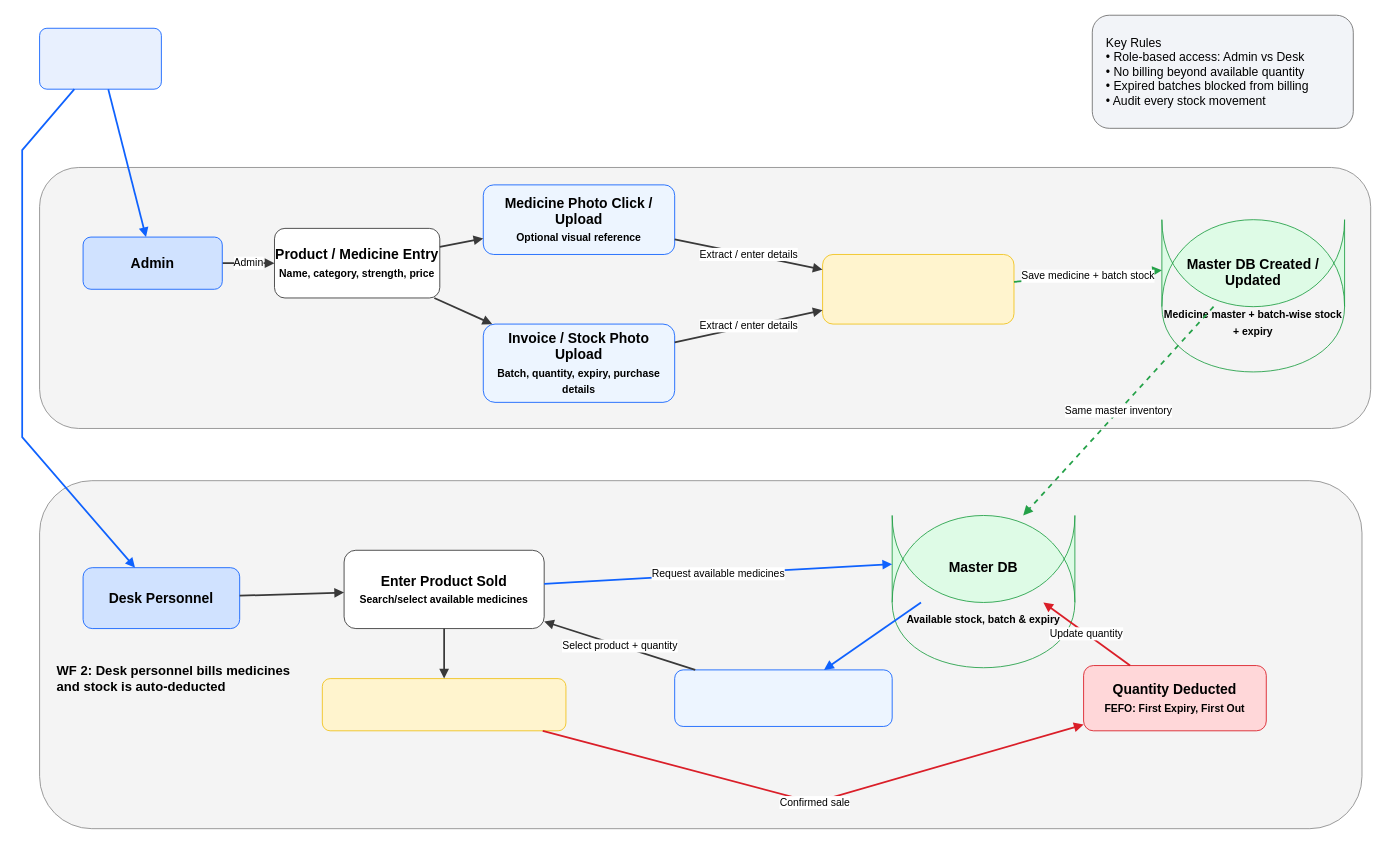
Image size: 1386x844. Some labels were removed from this diagram. Here are the shapes that lost their labels. From the top down, the box of each, then its label:
(39, 27, 161, 89): Users
(39, 167, 1371, 428): WF 1: Admin creates and maintains master stock
(822, 254, 1014, 324): Admin Review & Validation Correct extracted / entered details
(321, 678, 566, 731): Confirm Sale / Generate Bill of Sale
(674, 669, 892, 726): Provides Valid Selection Only in-stock and non-expired batches
